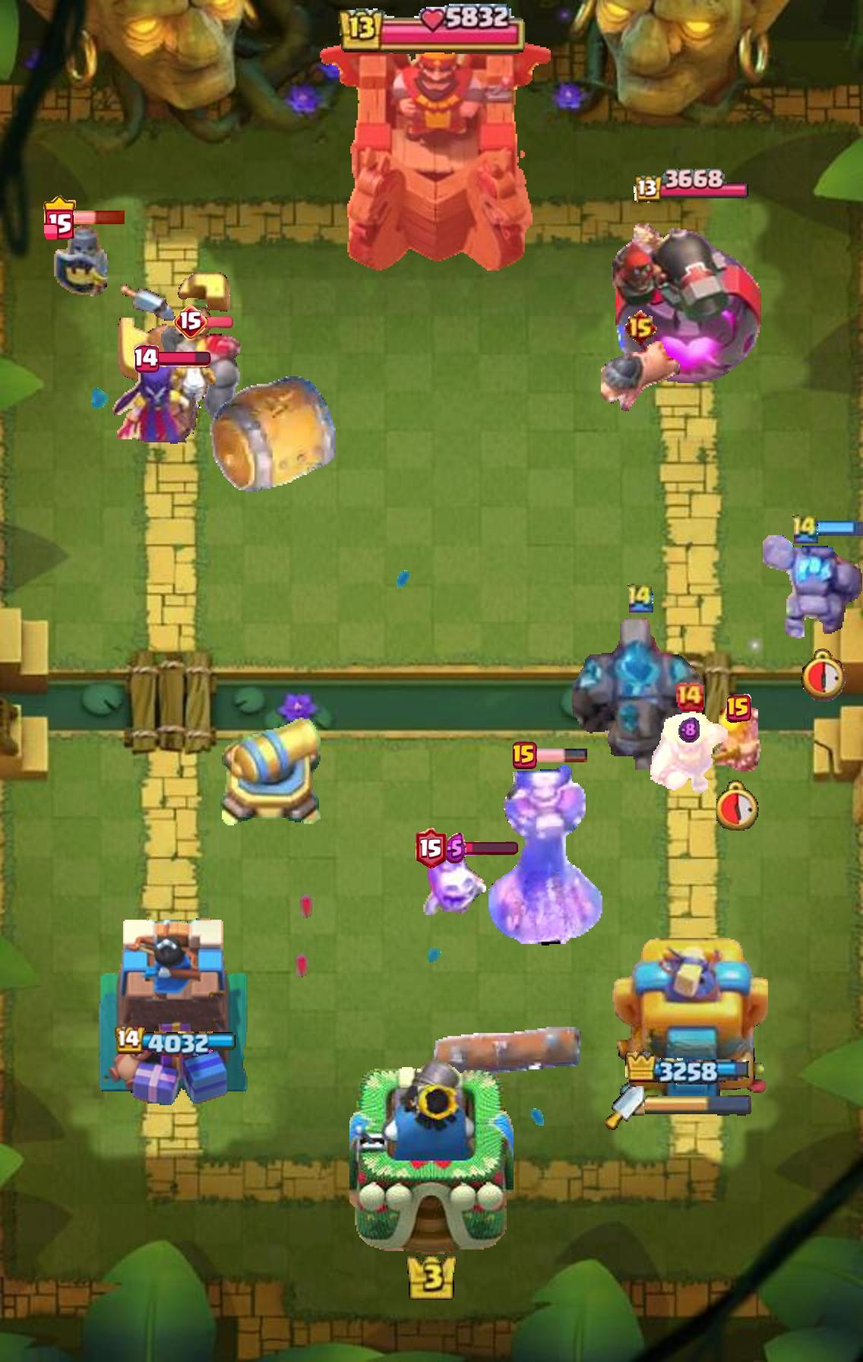cannon: (217, 708, 326, 832)
elixir: (443, 833, 466, 863), (678, 716, 700, 743)
